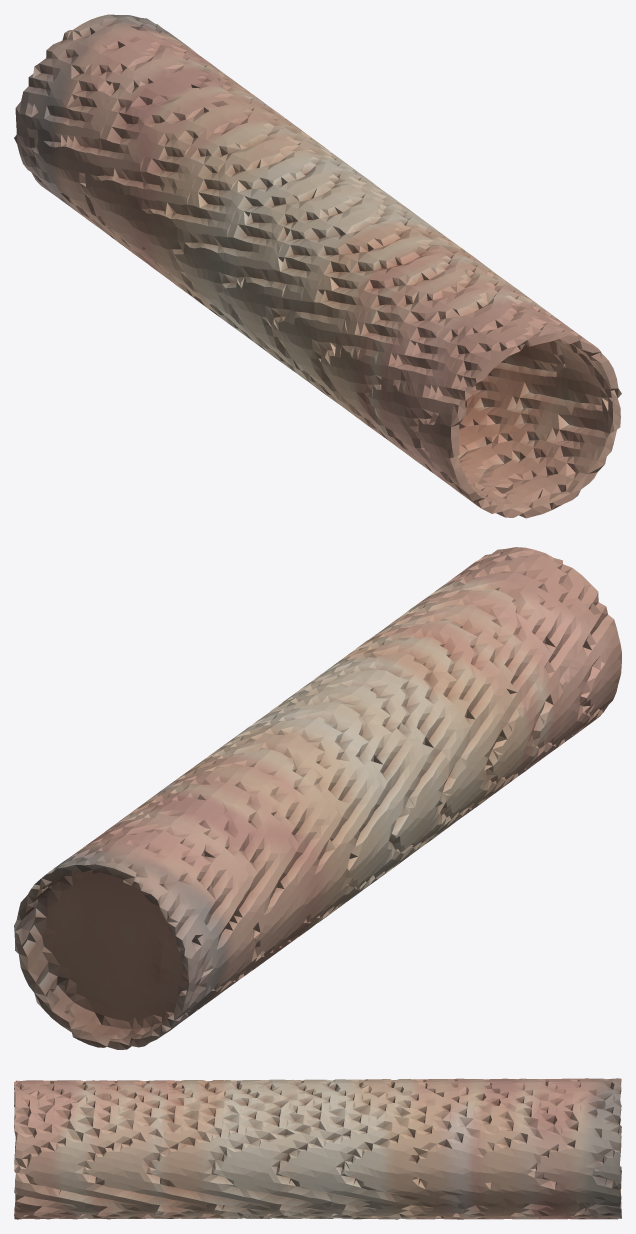
Rendered from entity-signal-light-2.glb.
3 views of the same model, one above another, from view 1: azimuth 30°, elevation 25°; view 2: azimuth 150°, elevation 25°; view 3: azimuth 270°, elevation 25° (orthographic). The views are drawn at different scales.
Visible parts, largest first — view 1: geometry_0; view 2: geometry_0; view 3: geometry_0.
Boxes of the visible parts, x1,y1,x2,y2 form: geometry_0: (14, 14, 621, 518); geometry_0: (14, 547, 621, 1049); geometry_0: (14, 1078, 621, 1219).
Size of the model in its own units: 0.0741 by 0.074 by 0.3193.
